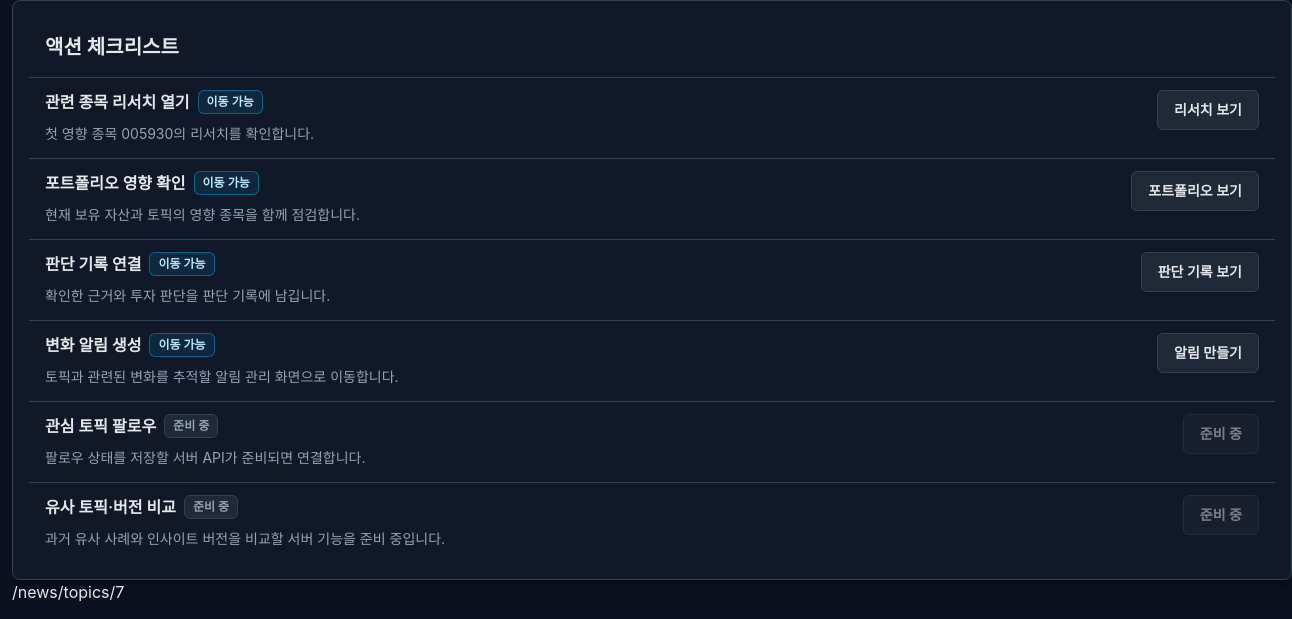
Test: TopicActionChecklist › 포트폴리오 보기 액션을 기존 경로로 연결한다
Click the button "포트폴리오 보기".
click(1195, 191)  # box [1131,171,1259,211]
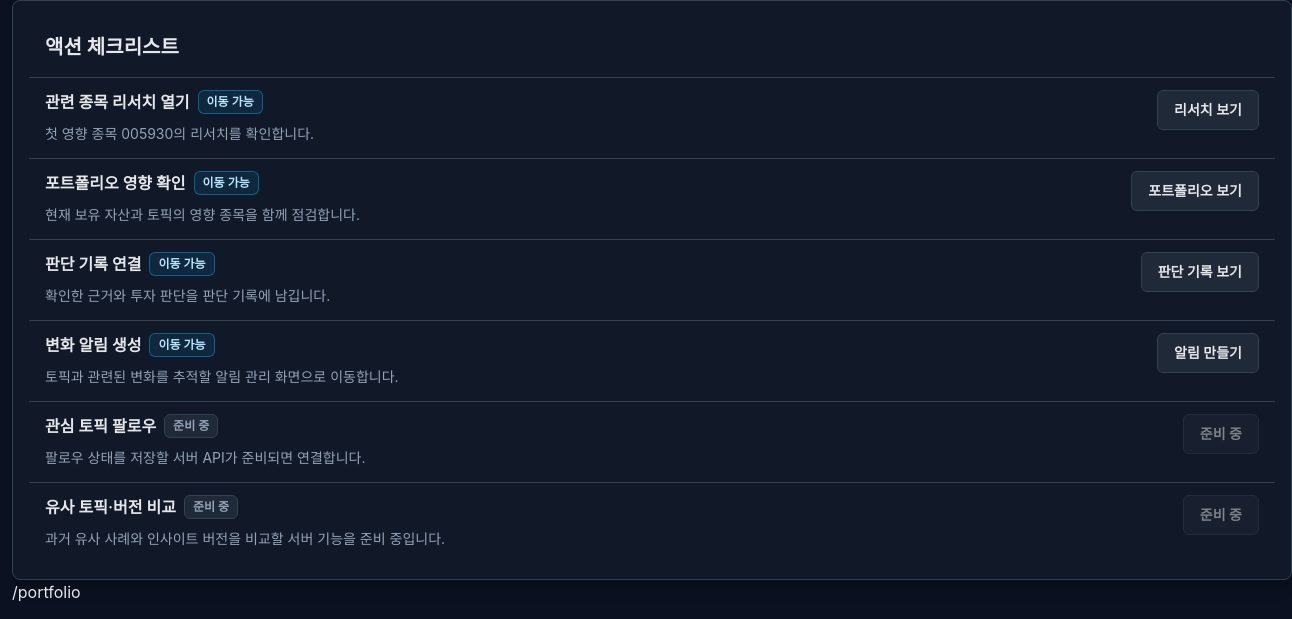
Check: the text named "현재 경로" reads "/portfolio", box [12,582,81,602]
